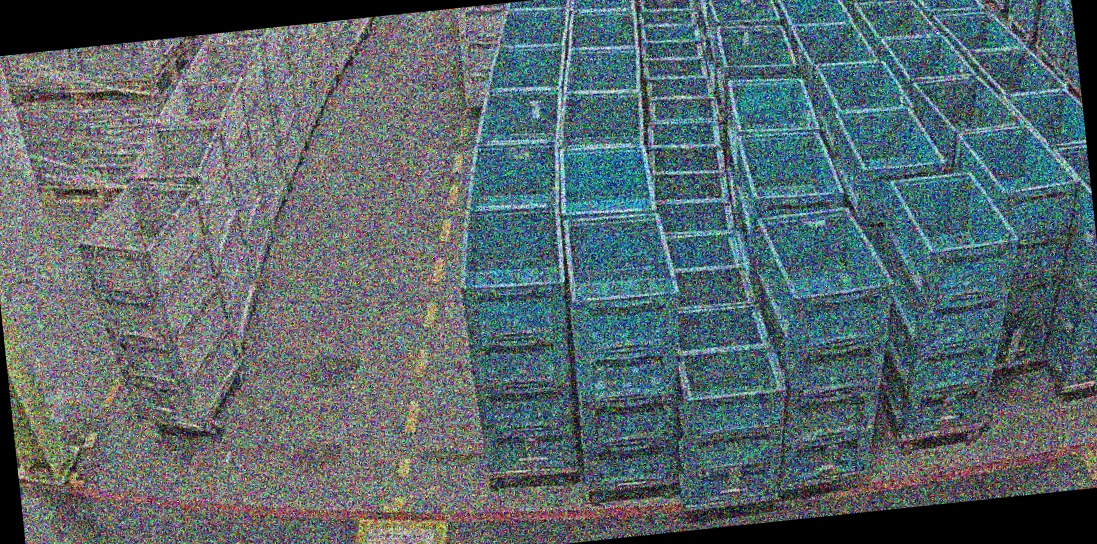4G: (71, 171, 254, 443)
B4: (859, 167, 1039, 442), (747, 204, 915, 491), (558, 210, 701, 492), (453, 201, 588, 479), (950, 120, 1097, 369)
B8: (662, 299, 798, 512)
